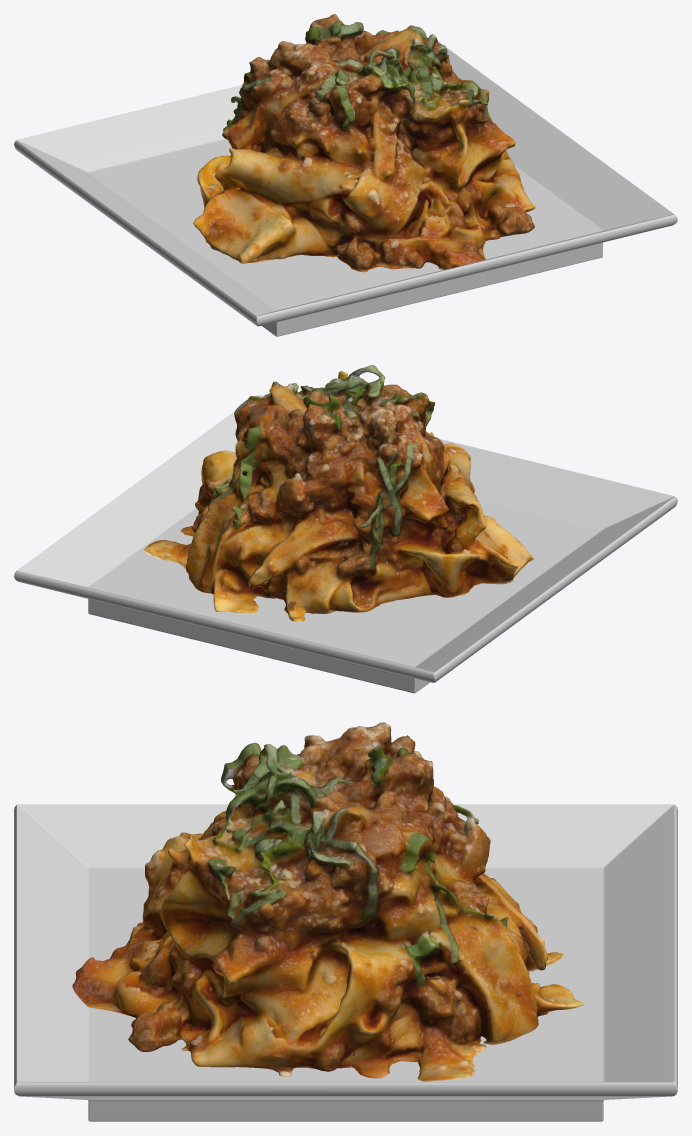
File: Pasta.glb
3 views of the same model, one above another, from view 1: azimuth 30°, elevation 25°; view 2: azimuth 150°, elevation 25°; view 3: azimuth 270°, elevation 25° (orthographic). The views are drawn at different scales.
Parts seen in each view (by area): view 1: Model, Plate; view 2: Model, Plate; view 3: Model, Plate.
Boxes of the visible parts, bbox=[...] form: Model: bbox=[193, 14, 535, 272]; Plate: bbox=[14, 41, 677, 336]; Model: bbox=[143, 365, 533, 622]; Plate: bbox=[14, 395, 677, 693]; Model: bbox=[72, 722, 583, 1081]; Plate: bbox=[14, 804, 677, 1121].
Bounding box in the file's own units: 0.3163 × 0.1422 × 0.3163.
2 materials, 1 textured.
